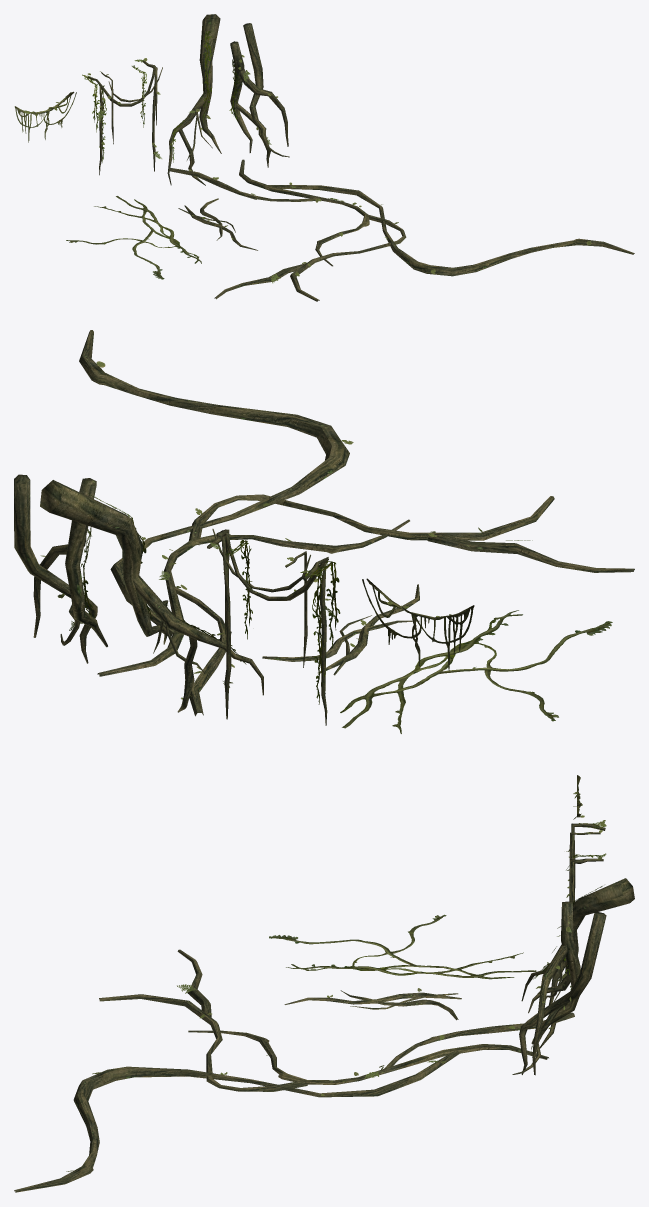
The model's file is f_1000_vine.FBX.
3 views of the same model, one above another, from view 1: azimuth 30°, elevation 25°; view 2: azimuth 150°, elevation 25°; view 3: azimuth 270°, elevation 25° (orthographic). The views are drawn at different scales.
Visible parts, largest first — view 1: d_1000_vinea09, d_1000_vinea12, d_1000_vinea11, d_1000_vinea13, d_1000_vine05, d_1000_vine01, d_1000_vinea02, d_1000_vinea10, d_1000_vine03; view 2: d_1000_vinea09, d_1000_vinea11, d_1000_vinea12, d_1000_vinea13, d_1000_vine05, d_1000_vine01, d_1000_vinea02, d_1000_vinea10; view 3: d_1000_vinea09, d_1000_vinea12, d_1000_vinea11, d_1000_vine05, d_1000_vinea10, d_1000_vinea13.
Part boxes in pixels (x1=…): d_1000_vinea09: x1=170, y1=159, x2=634, y2=301; d_1000_vinea12: x1=230, y1=23, x2=289, y2=167; d_1000_vinea11: x1=167, y1=14, x2=221, y2=185; d_1000_vinea13: x1=87, y1=60, x2=162, y2=175; d_1000_vine05: x1=66, y1=196, x2=201, y2=279; d_1000_vine01: x1=82, y1=58, x2=161, y2=162; d_1000_vinea02: x1=14, y1=91, x2=76, y2=142; d_1000_vinea10: x1=178, y1=198, x2=257, y2=250; d_1000_vine03: x1=170, y1=30, x2=211, y2=171; d_1000_vinea09: x1=79, y1=330, x2=634, y2=716; d_1000_vinea11: x1=40, y1=480, x2=263, y2=712; d_1000_vinea12: x1=14, y1=474, x2=107, y2=663; d_1000_vinea13: x1=207, y1=529, x2=328, y2=725; d_1000_vine05: x1=340, y1=610, x2=612, y2=733; d_1000_vine01: x1=205, y1=540, x2=340, y2=704; d_1000_vinea02: x1=362, y1=578, x2=474, y2=670; d_1000_vinea10: x1=262, y1=584, x2=419, y2=675; d_1000_vinea09: x1=14, y1=949, x2=574, y2=1192; d_1000_vinea12: x1=512, y1=901, x2=606, y2=1075; d_1000_vinea11: x1=521, y1=878, x2=634, y2=1048; d_1000_vine05: x1=269, y1=914, x2=536, y2=979; d_1000_vinea10: x1=284, y1=990, x2=461, y2=1020; d_1000_vinea13: x1=569, y1=823, x2=605, y2=902.
Bounding box in the file's own units: 3936 × 1267 × 3682.
